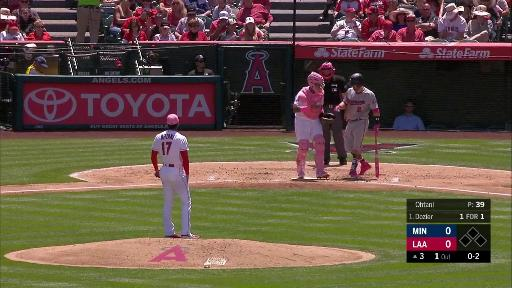pitcher: (150, 113, 203, 238)
